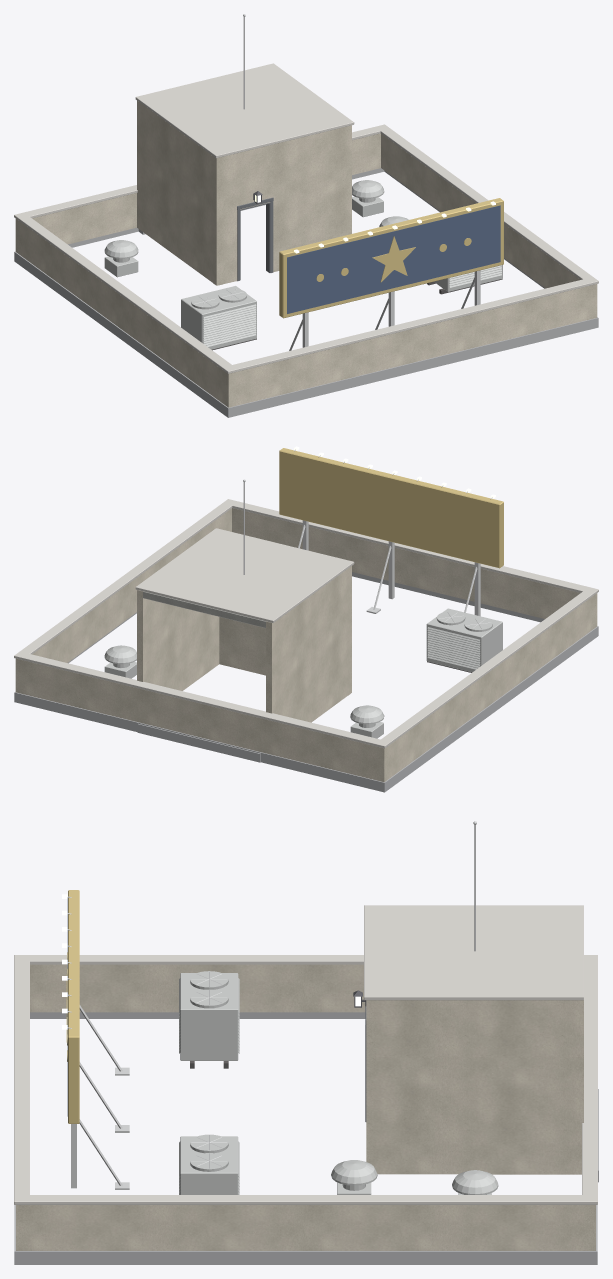
Rendered from roof_top.glb.
3 renders of one model, top to bottom at view 1: azimuth 30°, elevation 25°; view 2: azimuth 150°, elevation 25°; view 3: azimuth 270°, elevation 25°, orthographic. The views are drawn at different scales.
Parts seen in each view (by area): view 1: roof_top_render, roof_top_cill, roof_top_sign, roof_top_band, roof_top_unit, roof_top_gold, roof_top_steel, roof_top_frame; view 2: roof_top_render, roof_top_cill, roof_top_gold, roof_top_band, roof_top_unit, roof_top_steel, roof_top_membrane; view 3: roof_top_render, roof_top_cill, roof_top_unit, roof_top_band, roof_top_gold, roof_top_steel.
Boxes of the visible parts, bbox=[...] form: roof_top_render: bbox=[15, 100, 597, 407]; roof_top_cill: bbox=[14, 63, 598, 373]; roof_top_sign: bbox=[287, 205, 500, 313]; roof_top_band: bbox=[14, 168, 598, 417]; roof_top_unit: bbox=[104, 180, 502, 349]; roof_top_gold: bbox=[279, 198, 503, 318]; roof_top_steel: bbox=[193, 14, 480, 350]; roof_top_frame: bbox=[237, 197, 273, 281]; roof_top_render: bbox=[15, 508, 597, 782]; roof_top_cill: bbox=[14, 499, 598, 748]; roof_top_gold: bbox=[279, 448, 503, 568]; roof_top_band: bbox=[14, 572, 598, 792]; roof_top_unit: bbox=[104, 608, 502, 738]; roof_top_steel: bbox=[243, 449, 492, 628]; roof_top_membrane: bbox=[143, 591, 265, 627]; roof_top_render: bbox=[16, 964, 595, 1250]; roof_top_cill: bbox=[14, 905, 597, 1204]; roof_top_unit: bbox=[179, 971, 498, 1194]; roof_top_band: bbox=[14, 1012, 598, 1264]; roof_top_gold: bbox=[66, 890, 79, 1123]; roof_top_steel: bbox=[67, 821, 476, 1189].
Bounding box in the file's own units: 12.08 × 7.31 × 12.1.
13 materials, 2 textured.
